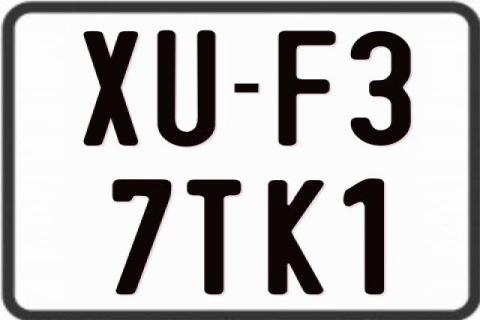0: (350, 31, 416, 148), (109, 178, 171, 294), (342, 177, 386, 295)
F: (278, 29, 342, 149)
K: (268, 178, 329, 294)
T: (185, 178, 244, 294)
U: (155, 29, 214, 148)
X: (81, 30, 139, 148)
